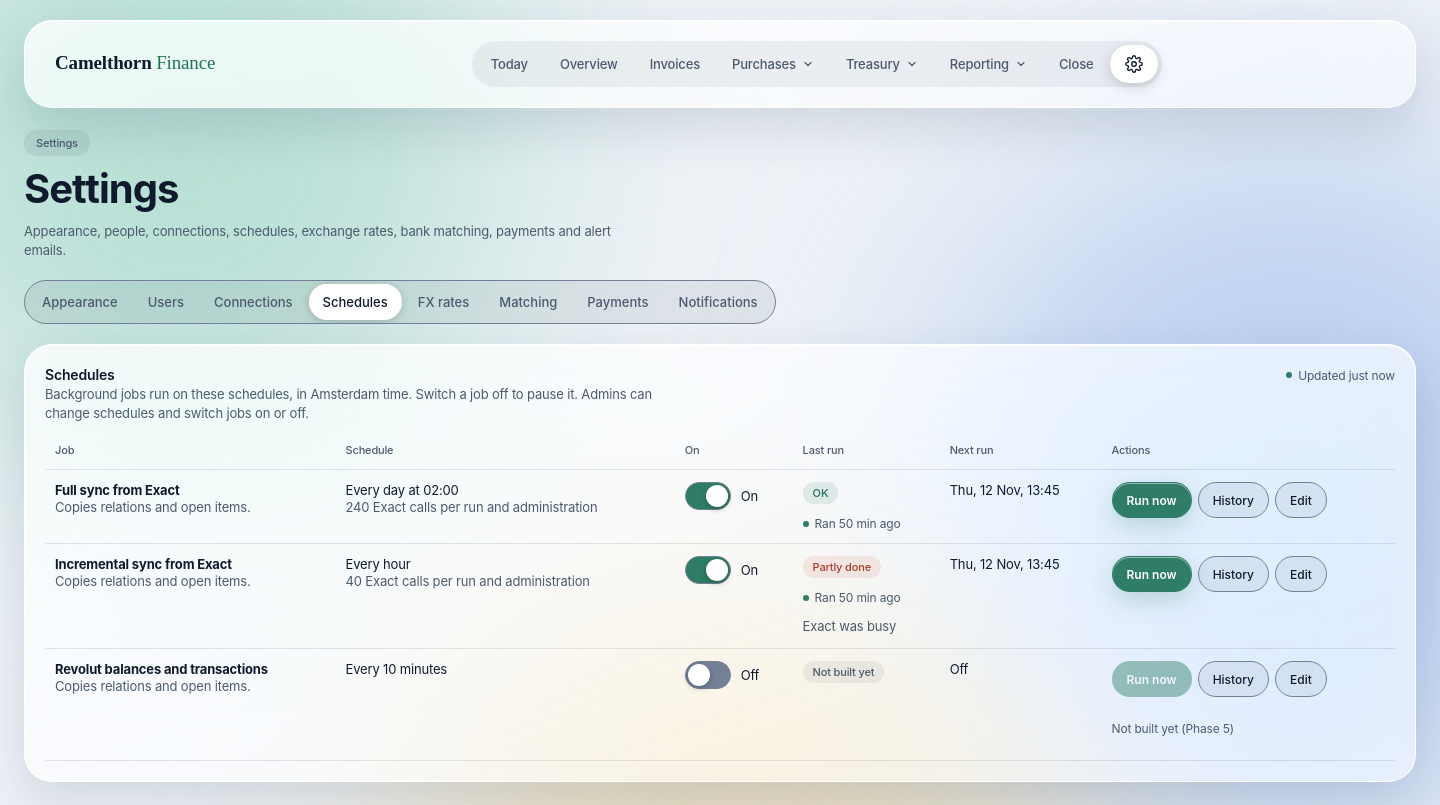
Test: Settings, Schedules › switching and running › a switch flipped on a stale page is refused (409) and says so, then reloads
Check: the text "Full sync from Exact" is shown, box [55,482,180,498]
Click the switch named "Full sync from Exact on": [708, 496] box [685,482,731,510]
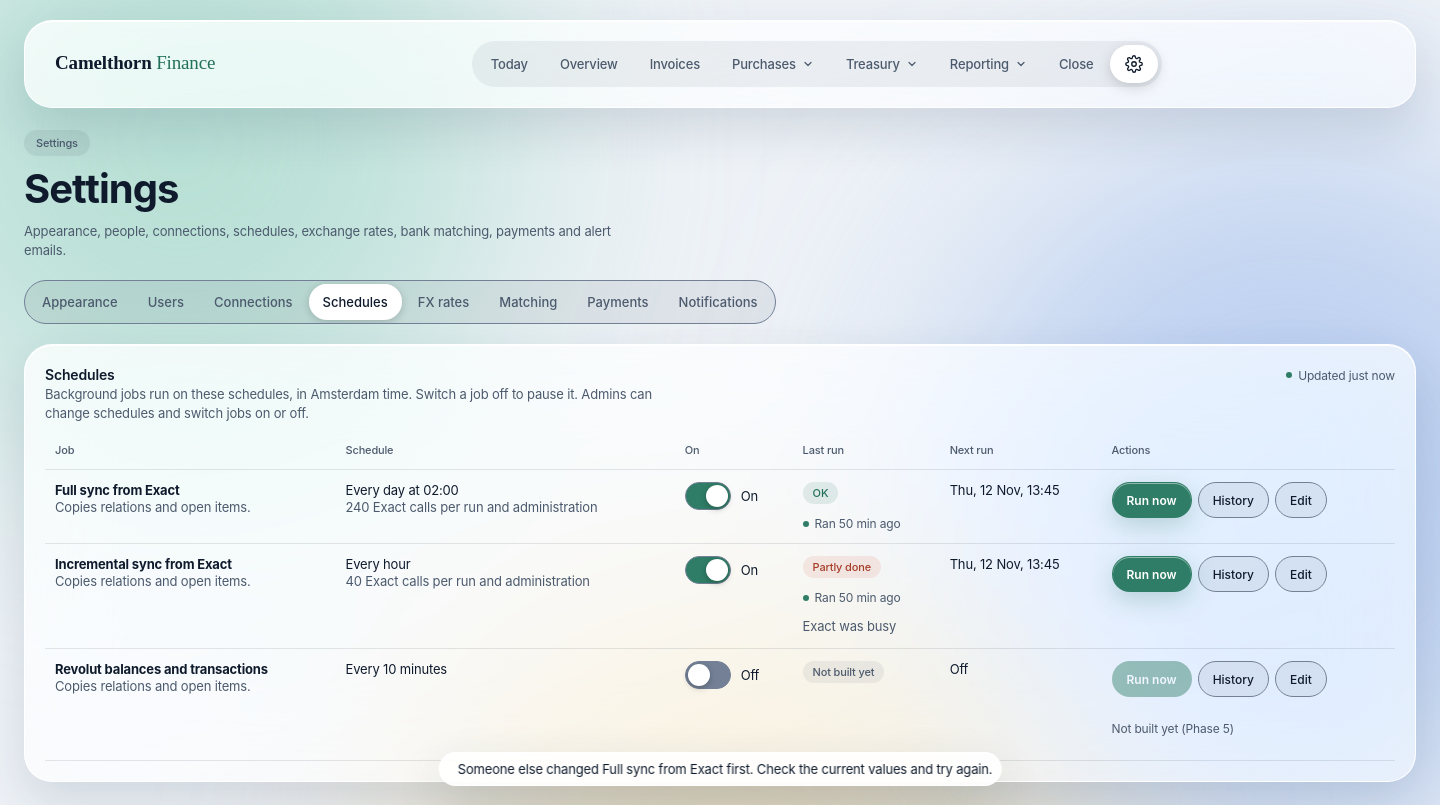
Check: the text "Someone else changed Full sync from Exact first. Check the current values and try again." is shown, box [458,761,992,777]
